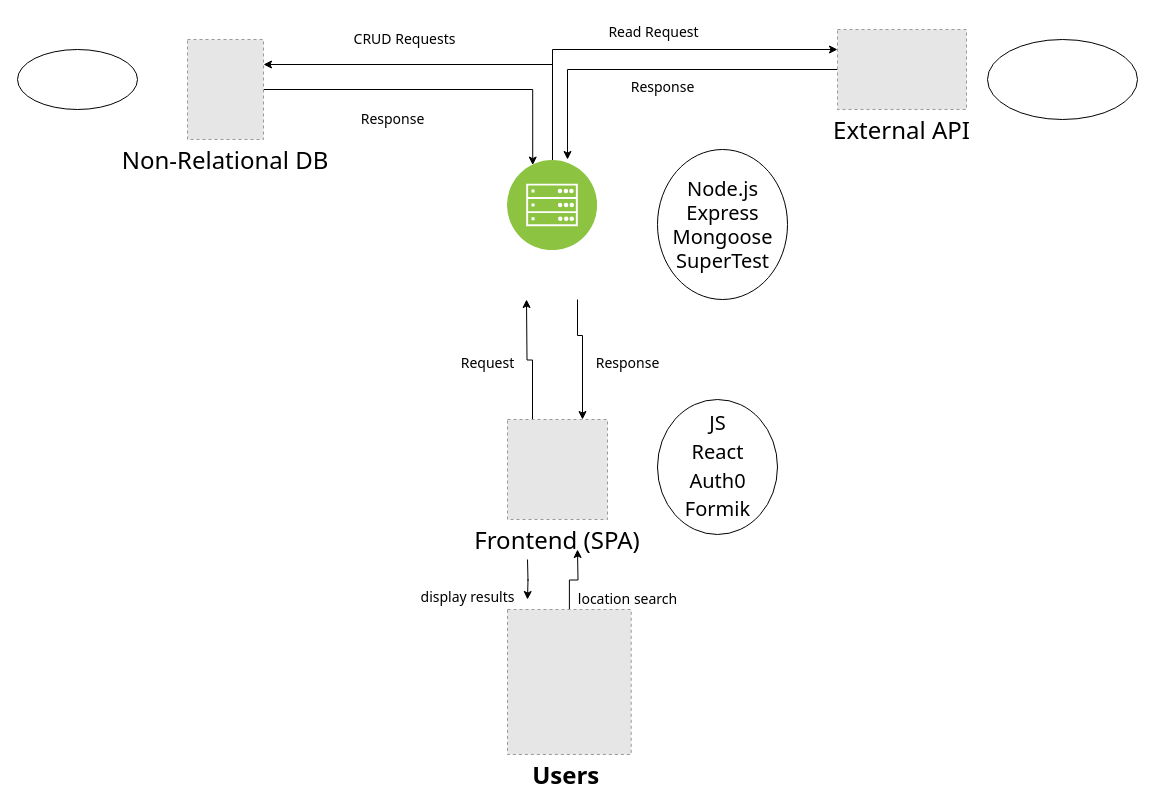
Image size: 1155x808. Some labels were removed from this diagram. Grey dashed boxes stand in for pictures. The centre of each missing label's shape, as x and y in pixels:
Backend: pixel 552 205
GiveFood API: pixel 1062 79
MongoDB: pixel 77 79
